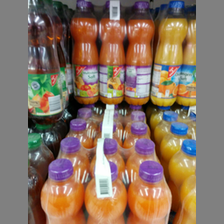juice: (28, 1, 63, 124), (152, 1, 188, 107), (68, 1, 99, 105), (126, 1, 156, 106), (97, 1, 126, 104)
